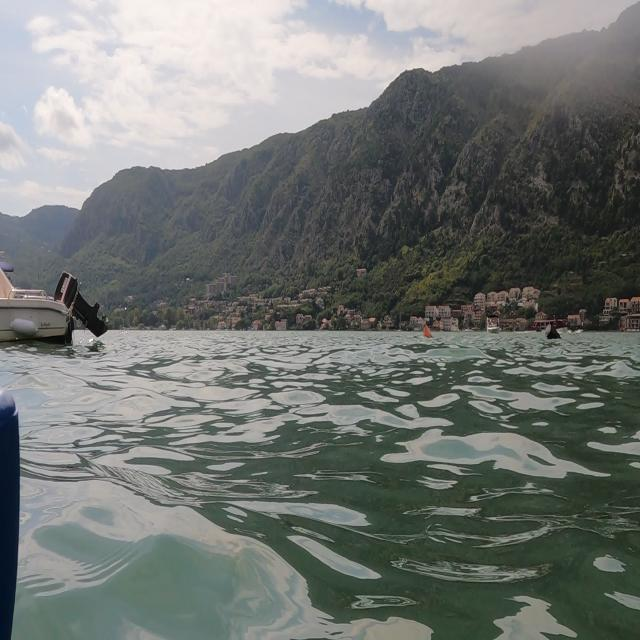boat: (1, 260, 109, 350)
buoy: (419, 318, 439, 344), (544, 319, 564, 345)
